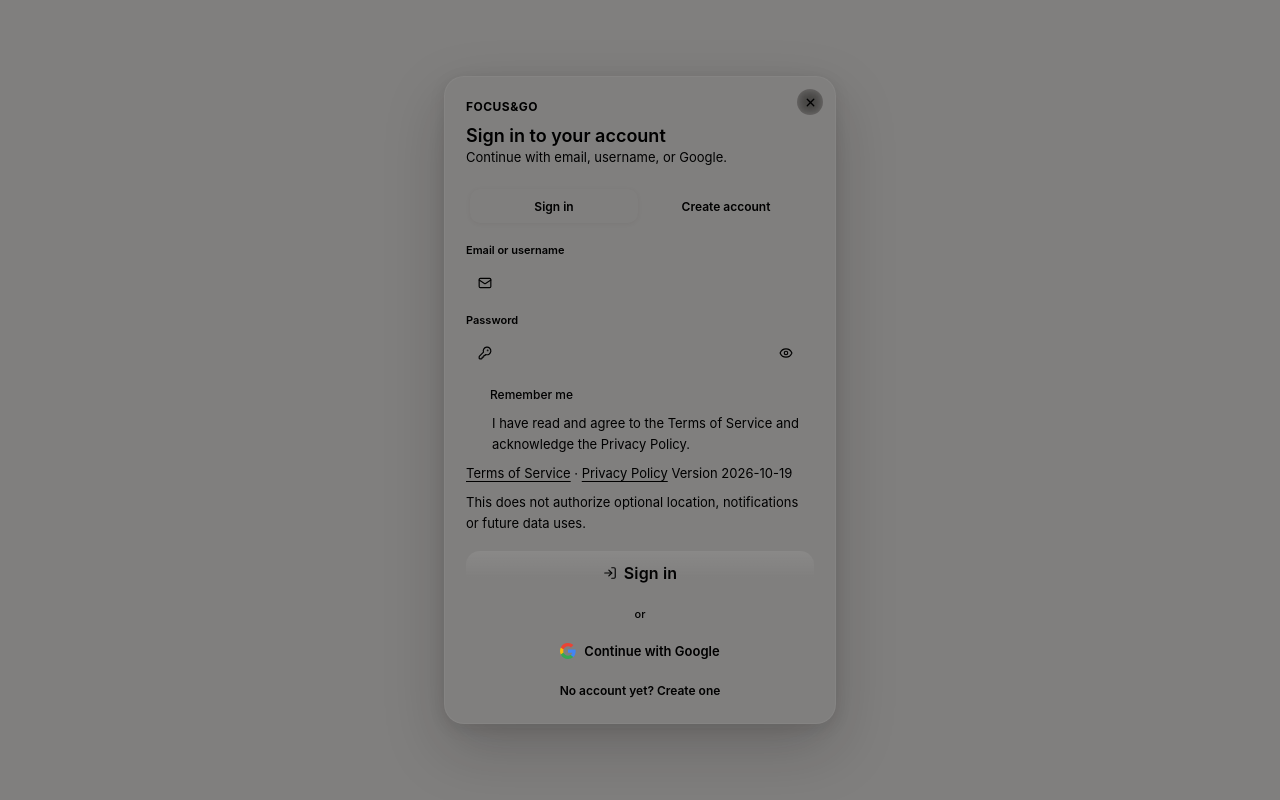
does not start Google registration before an explicit policy confirmation
Step 1. Click the button "Continue with Google" → click(640, 651), box [466,631,814,671]
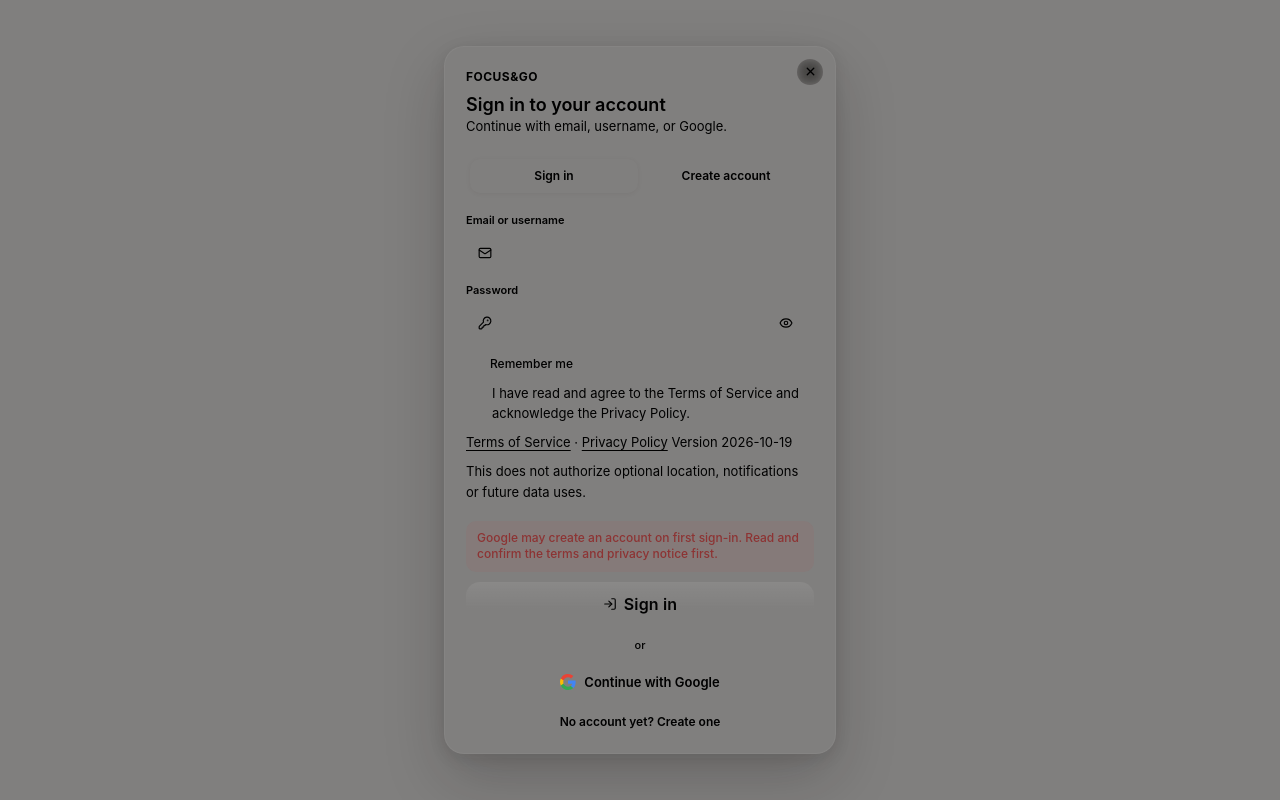
Now the text "Google may create an account" is shown, box [477,530,799,561]
